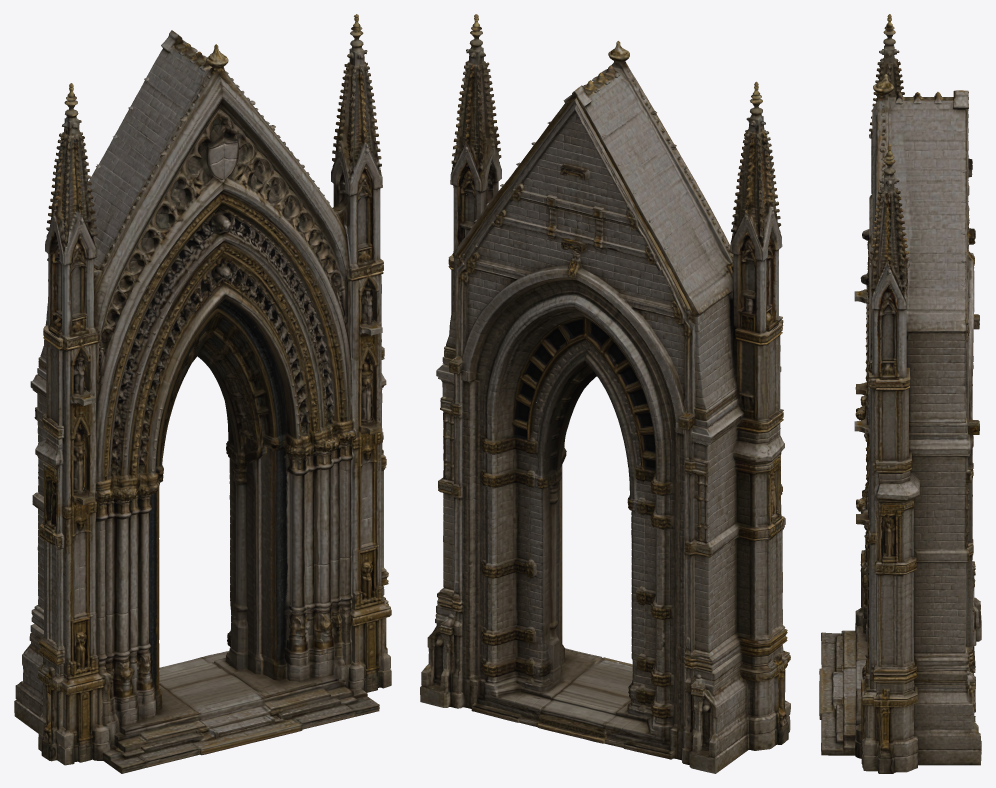
The model's file is gothic_arch.glb.
3 views of the same model, side by side, from view 1: azimuth 30°, elevation 25°; view 2: azimuth 150°, elevation 25°; view 3: azimuth 270°, elevation 25° (orthographic). The views are drawn at different scales.
Size of the model in its own units: 0.5189 by 0.9794 by 0.2309.
Materials: 1 (1 with a texture image).
